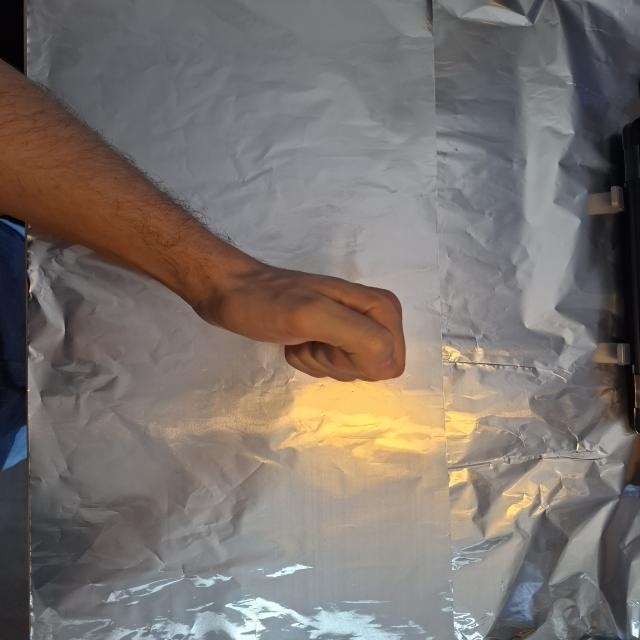glove_off: (181, 255, 410, 385)
